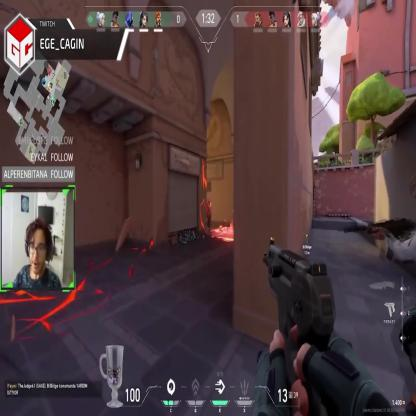enemy: (204, 196, 212, 235)
enemy_head: (206, 197, 210, 205)
